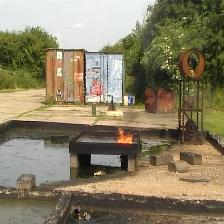fire: (117, 128, 133, 144)
